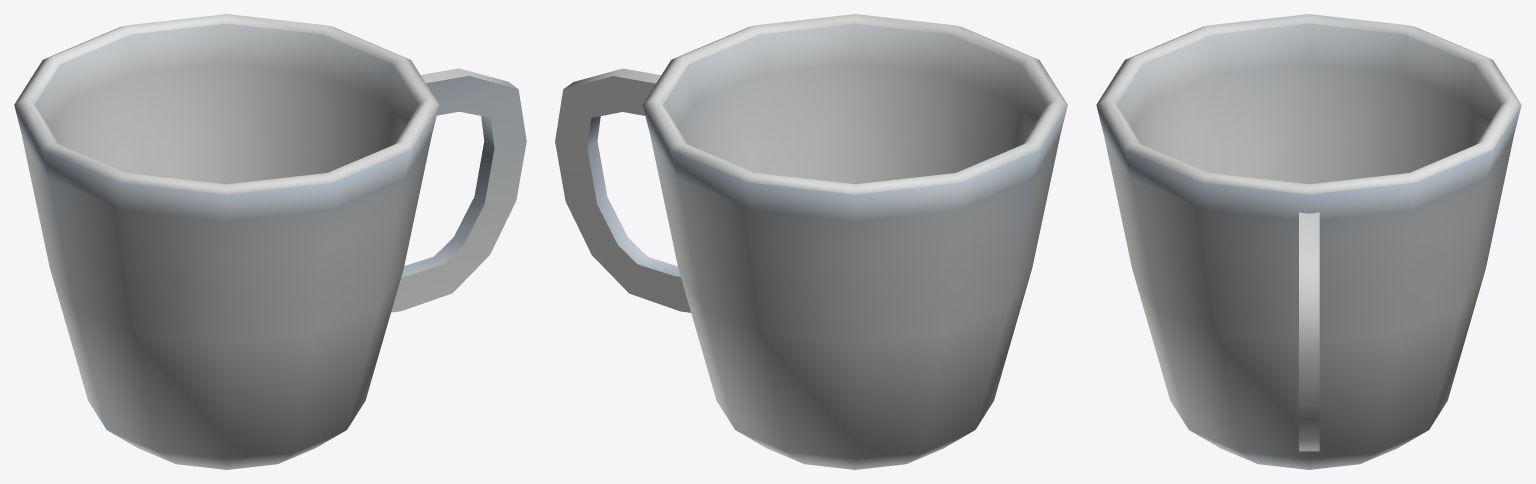
File: prop_foodmenu20.fbx
3 renders of one model, left to right at view 1: azimuth 30°, elevation 25°; view 2: azimuth 150°, elevation 25°; view 3: azimuth 270°, elevation 25°, orthographic.
Parts seen in each view (by area): view 1: prop_foodmenu20; view 2: prop_foodmenu20; view 3: prop_foodmenu20.
Boxes of the visible parts, x1,y1,x2,y2 form: prop_foodmenu20: (14,14,526,469); prop_foodmenu20: (555,14,1067,469); prop_foodmenu20: (1096,14,1521,469).
Size of the model in its own units: 0.1311 by 0.0857 by 0.1008.
